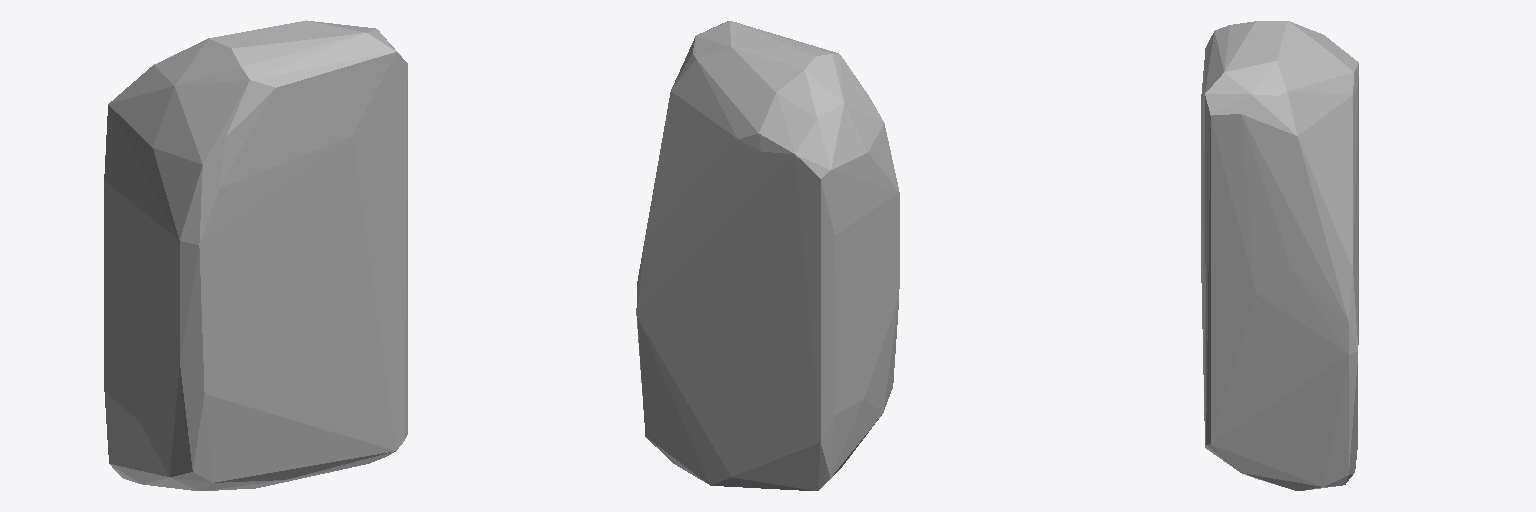
URDF robot description (root):
<robot name="root">
  <link name="link_rock3_convex_piece_0">
    <inertial>
      <origin rpy="0 0 0" xyz="0 0 0"/>
      <mass value="1.05E+06"/>
      <inertia ixx="2.47E+09" ixy="-2.34E+08" ixz="4.41E+08" iyy="2.47E+09" iyz="3.57E+07" izz="8.61E+08"/>
    </inertial>
    <visual>
      <origin rpy="0 0 0" xyz="0 0 0"/>
      <geometry>
        <mesh filename="rock3_convex_piece_0.obj" scale="1.0000E+00 1.0000E+00 1.0000E+00"/>
      </geometry>
      <material name="">
        <color rgba="7.50E-01 7.50E-01 7.50E-01 1"/>
      </material>
    </visual>
    <collision>
      <origin rpy="0 0 0" xyz="0 0 0"/>
      <geometry>
        <mesh filename="rock3_convex_piece_0.obj" scale="1.0000E+00 1.0000E+00 1.0000E+00"/>
      </geometry>
    </collision>
  </link>
</robot>

--- Facts derived from the render (not from the file) ---
Views: 3 orthographic renders of the robot side by side, from view 1: azimuth 30°, elevation 25°; view 2: azimuth 150°, elevation 25°; view 3: azimuth 270°, elevation 25°.
Model root with 1 links and 0 joints (none), rooted at link_rock3_convex_piece_0, posed every joint at zero.
Visible links, largest first — view 1: link_rock3_convex_piece_0; view 2: link_rock3_convex_piece_0; view 3: link_rock3_convex_piece_0.
Link boxes in pixels (left/top/right/bottom): link_rock3_convex_piece_0: left=104, top=20, right=407, bottom=490; link_rock3_convex_piece_0: left=636, top=21, right=899, bottom=490; link_rock3_convex_piece_0: left=1201, top=21, right=1358, bottom=490.
Size in the robot's own frame: 99.8 by 66.57 by 197 metres.
1 mesh visuals loaded from 1 distinct referenced files (1 OBJ).